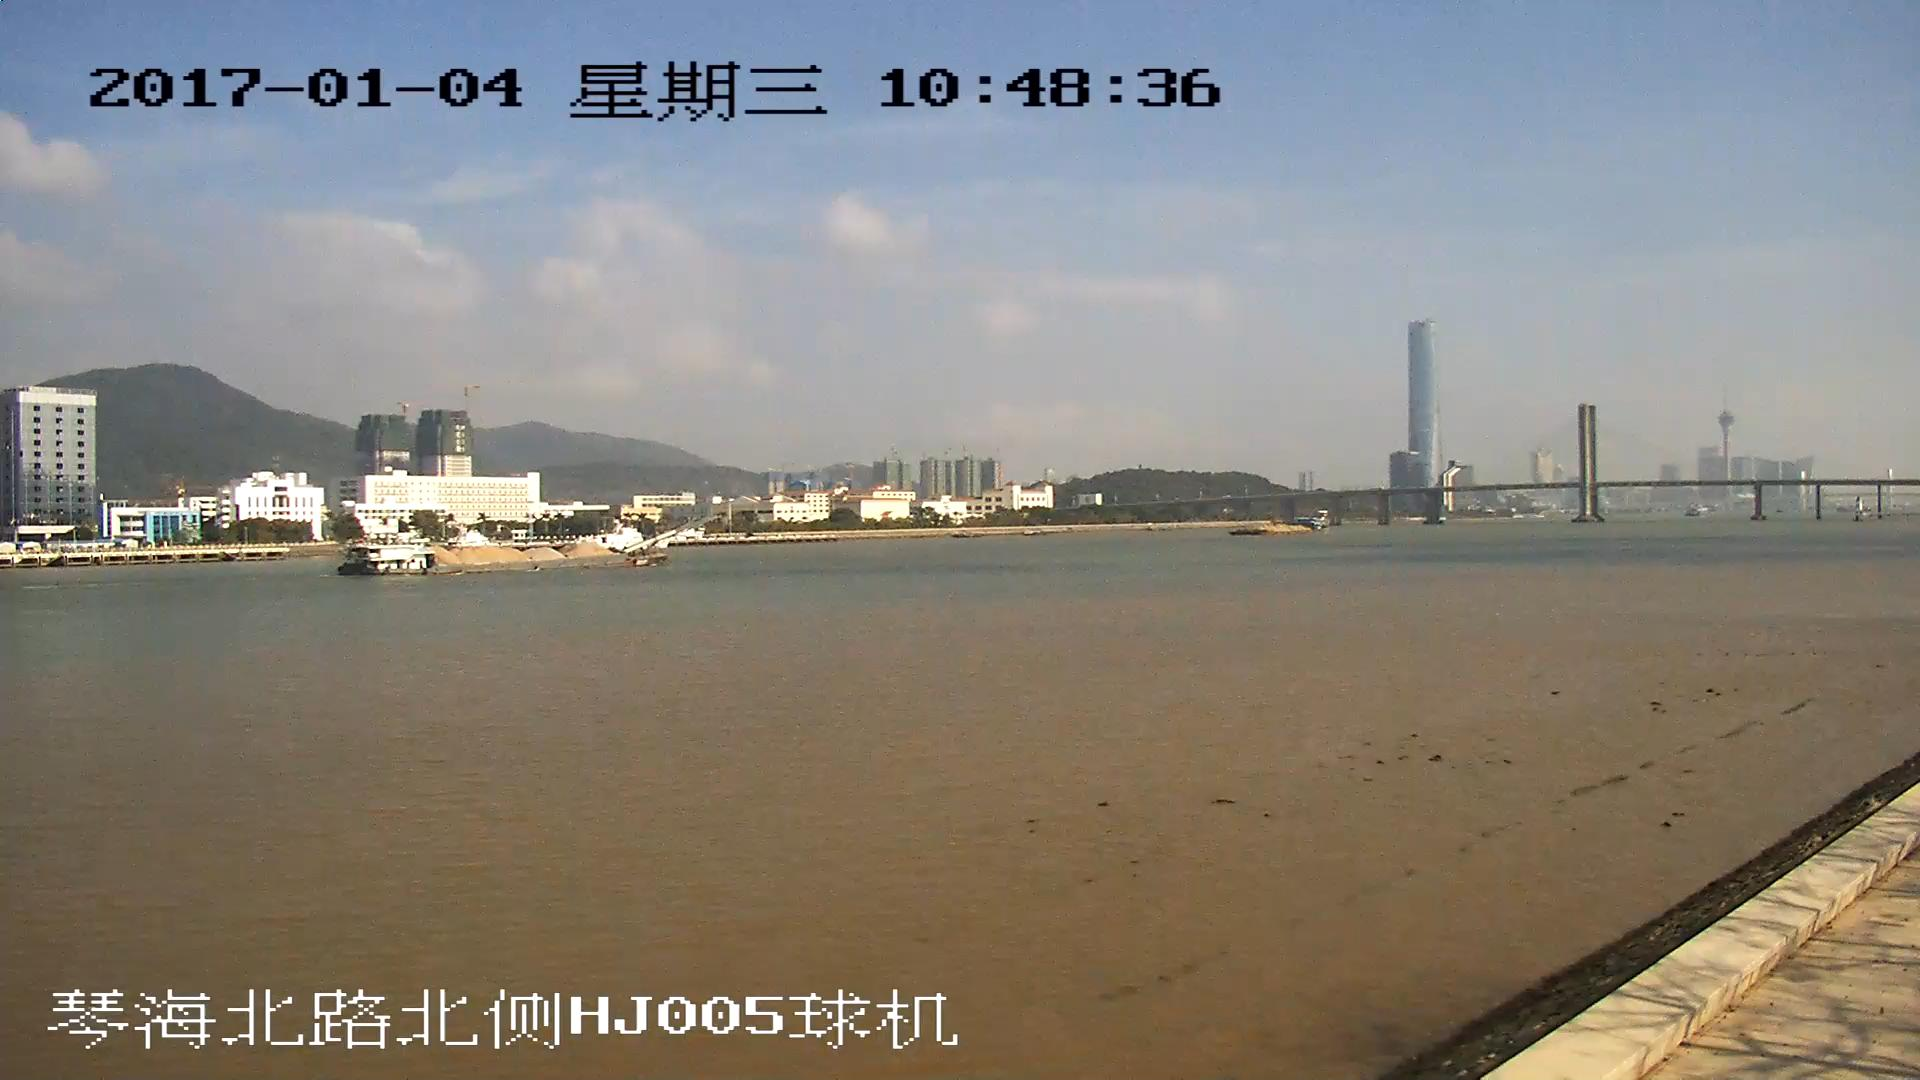ore carrier: (340, 514, 720, 580)
